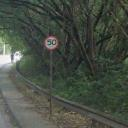speed_limit_50: (44, 36, 58, 51)
